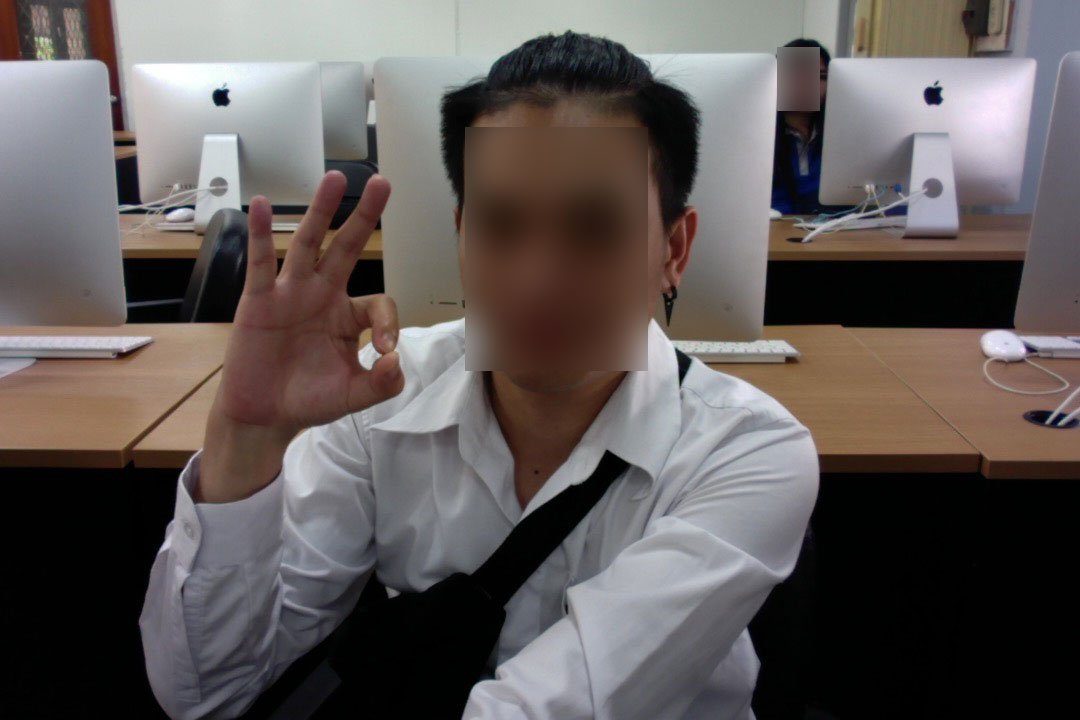for: (206, 157, 414, 454)
